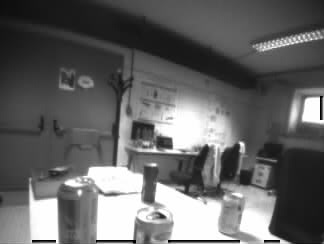Tin can: (58, 177, 97, 244), (134, 207, 173, 244), (219, 191, 243, 236), (142, 163, 157, 203)
